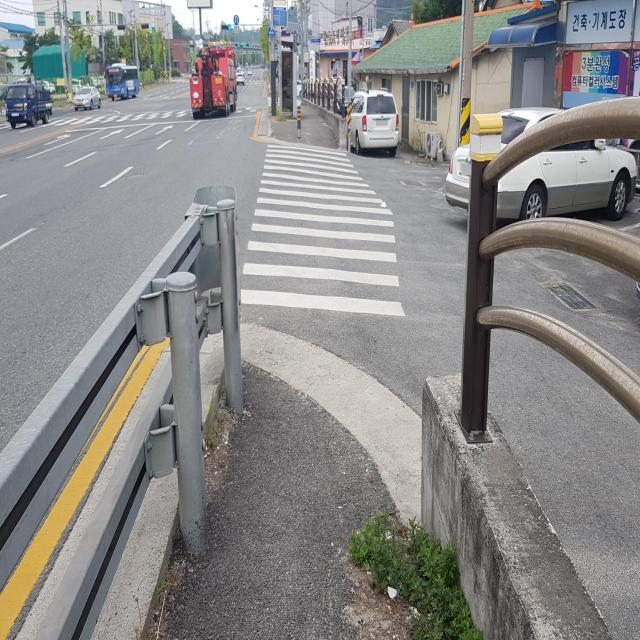횡단보도: (240, 143, 406, 318), (50, 110, 257, 122)
